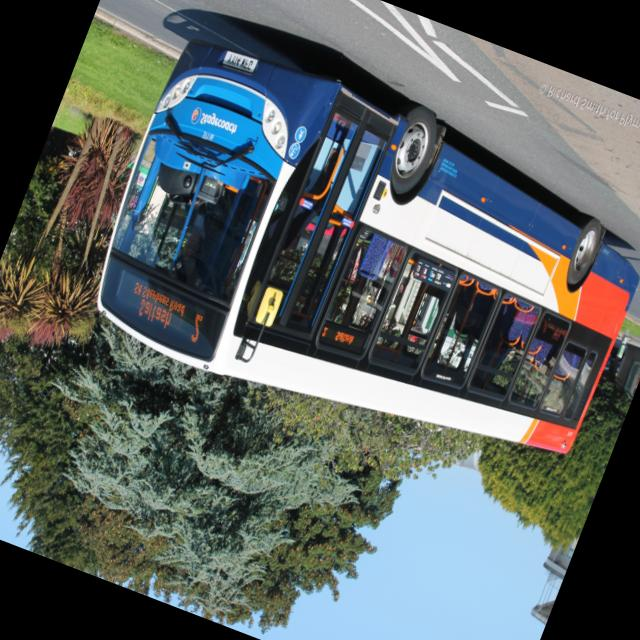bus: (70, 18, 640, 507)
